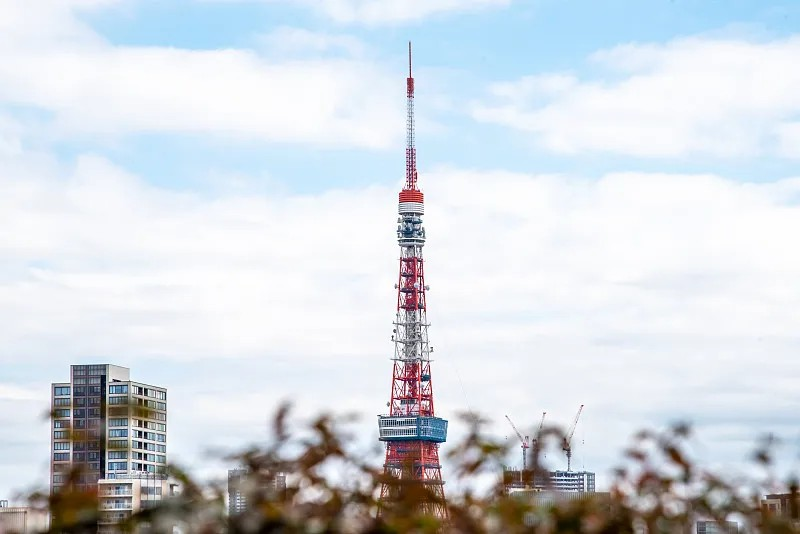Tokyo: (378, 39, 451, 531)
